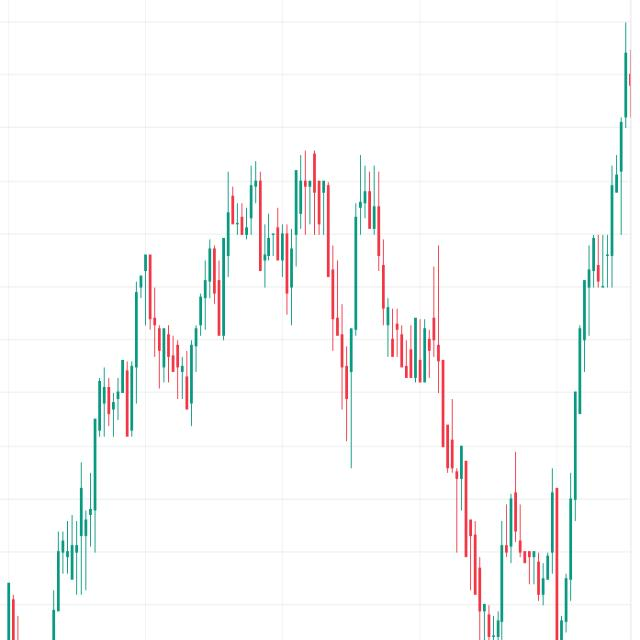Triple-Top: (206, 128, 392, 333)
